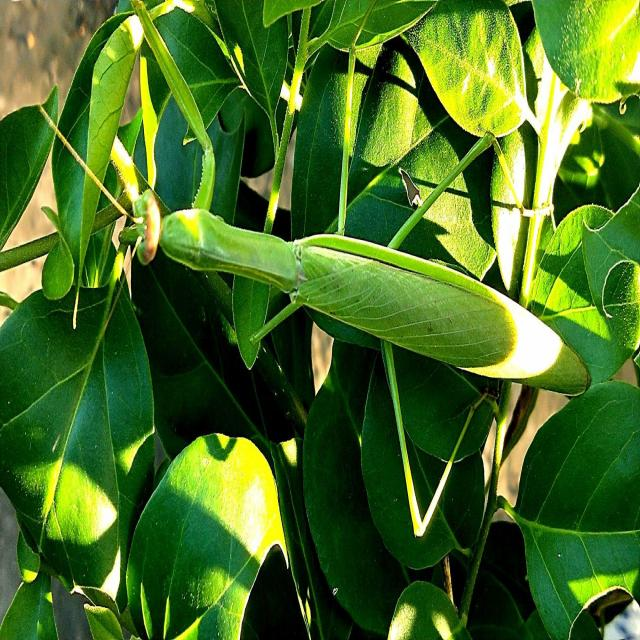ZhaMeng: (148, 90, 593, 450)
